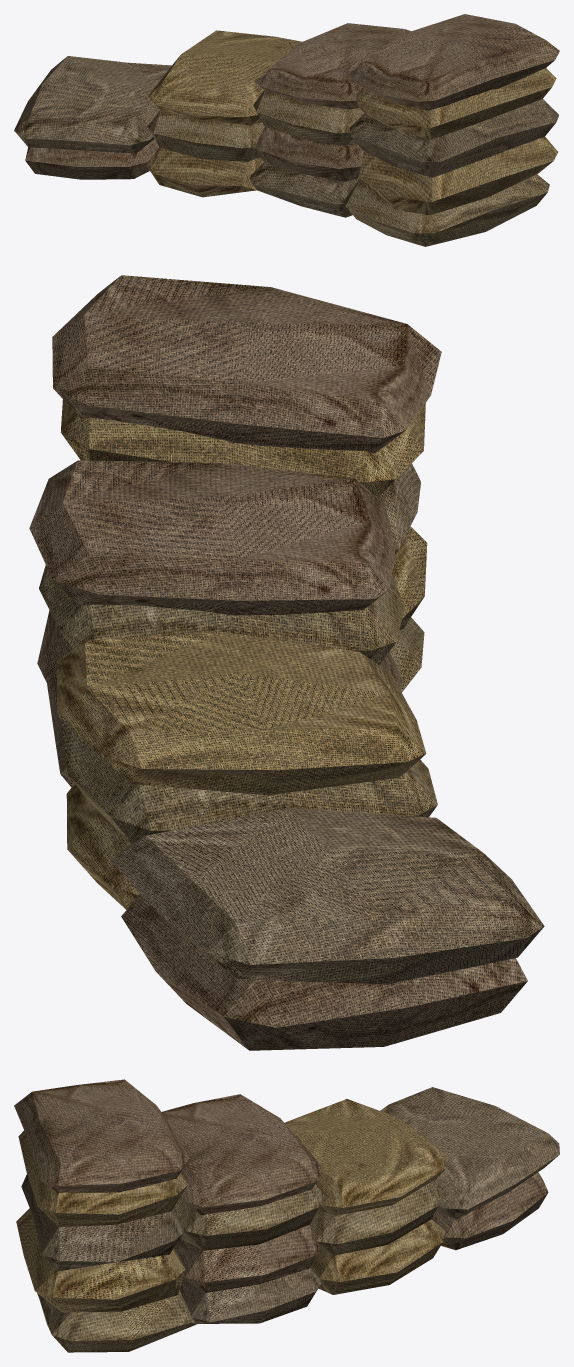
File: sacks_5.FBX
3 views of the same model, one above another, from view 1: azimuth 30°, elevation 25°; view 2: azimuth 150°, elevation 25°; view 3: azimuth 270°, elevation 25° (orthographic). The views are drawn at different scales.
Visible parts, largest first — view 1: sacks_5; view 2: sacks_5; view 3: sacks_5.
Part boxes in pixels (<box>): sacks_5: <box>14,14,559,246</box>; sacks_5: <box>29,275,544,1050</box>; sacks_5: <box>14,1079,559,1352</box>.
Size of the model in its own units: 682 by 310 by 732.
